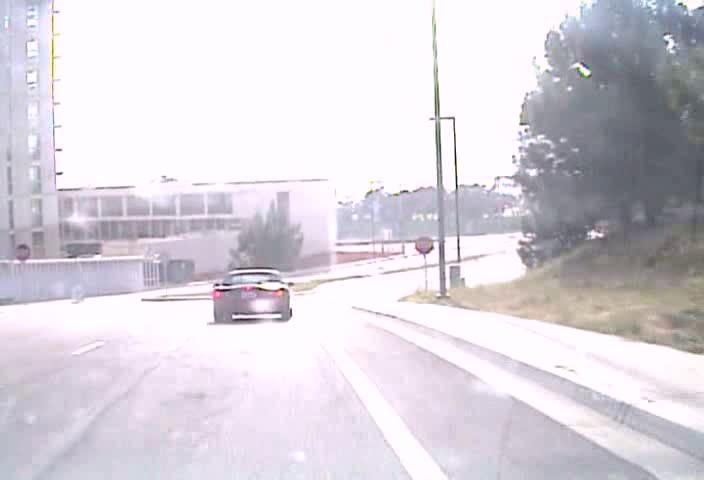stop: (414, 235, 434, 255)
